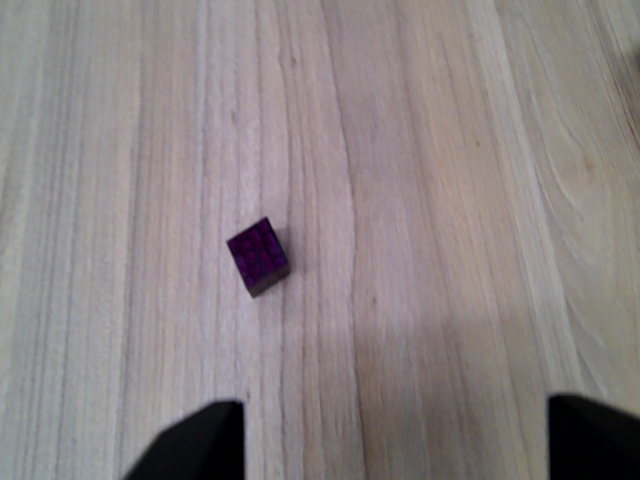brick: (223, 215, 294, 298)
